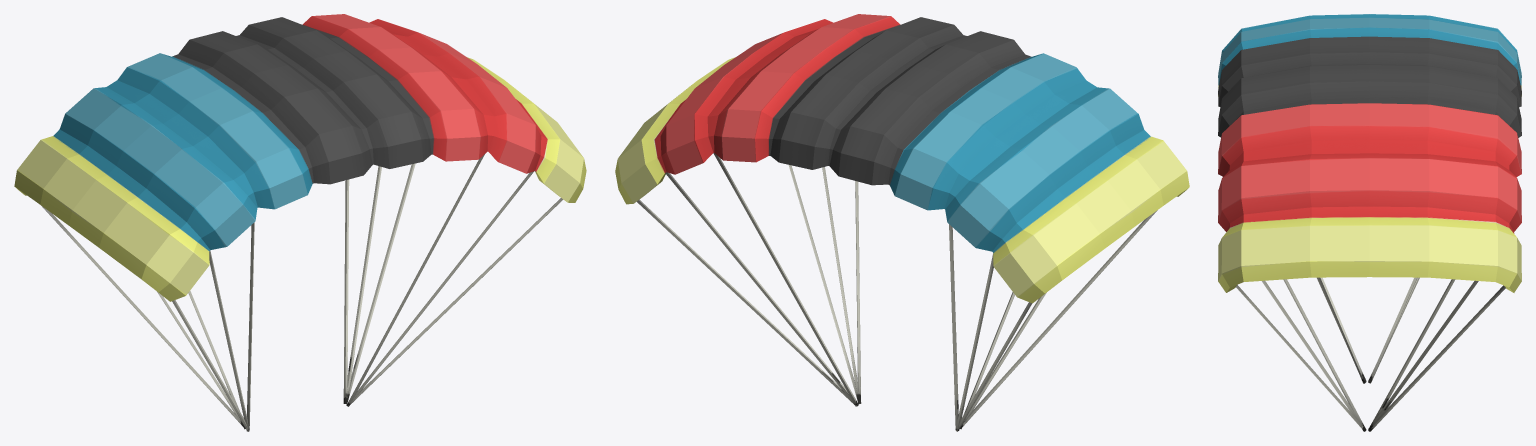
The model's file is parachute.fbx.
3 renders of one model, left to right at view 1: azimuth 30°, elevation 25°; view 2: azimuth 150°, elevation 25°; view 3: azimuth 270°, elevation 25°, orthographic.
Parts seen in each view (by area): view 1: Parachute; view 2: Parachute; view 3: Parachute.
Part boxes in pixels (bbox=[...]): Parachute: bbox=[14, 14, 586, 431]; Parachute: bbox=[615, 14, 1189, 431]; Parachute: bbox=[1218, 14, 1521, 431].
Size of the model in its own units: 334 by 244 by 191.
